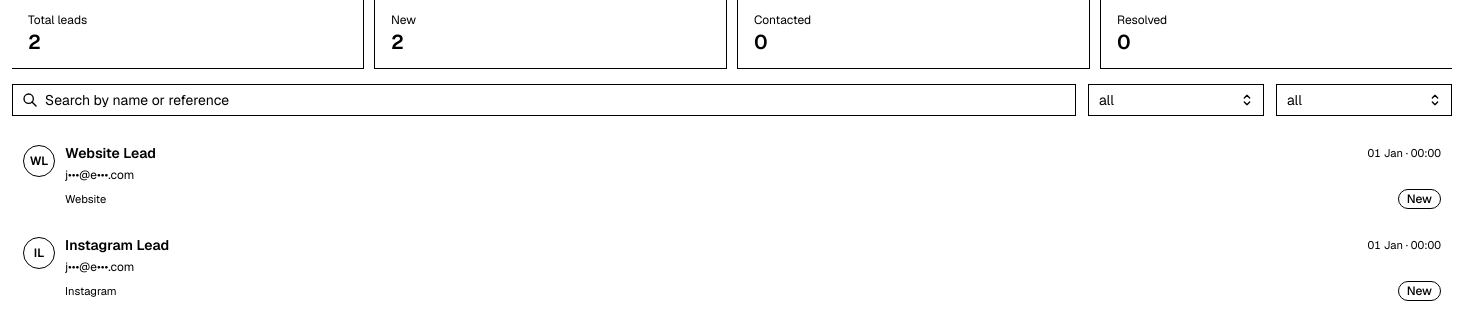
Test: LeadsView — search and filters › the source filter shows only leads from the selected channel
Check: the text "Website Lead" is shown, box top-left (65, 143), bottom-right (156, 163)
Click the dropdown named "Filter by source".
click(1364, 100)  # box top-left (1276, 84), bottom-right (1452, 116)
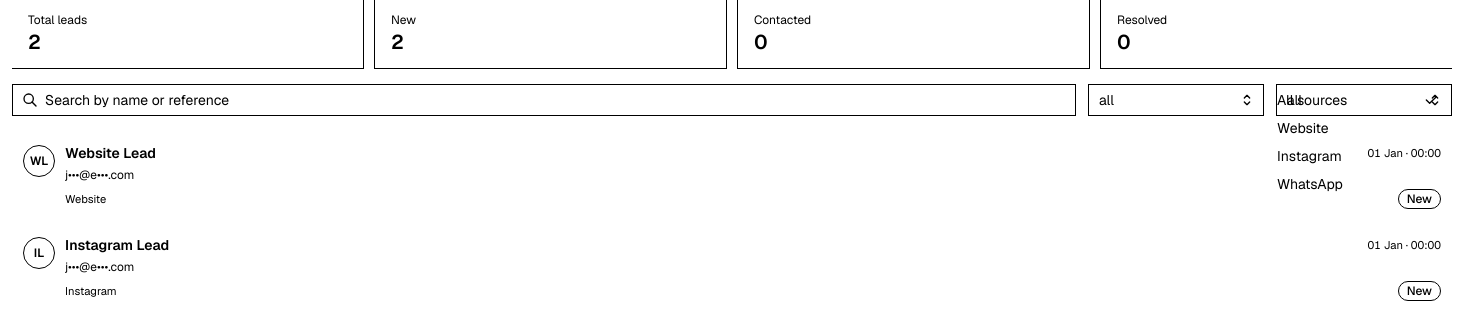
Click the option "Instagram".
click(1309, 156)  # box top-left (1277, 147), bottom-right (1342, 165)
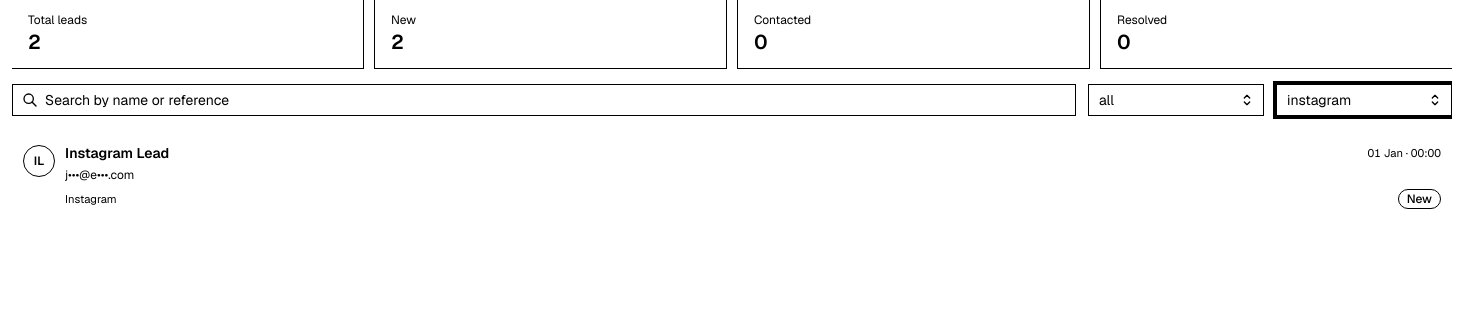
Check: the text "Instagram Lead" is shown, box top-left (65, 143), bottom-right (169, 163)
Check: the button "Website Lead" is gone
